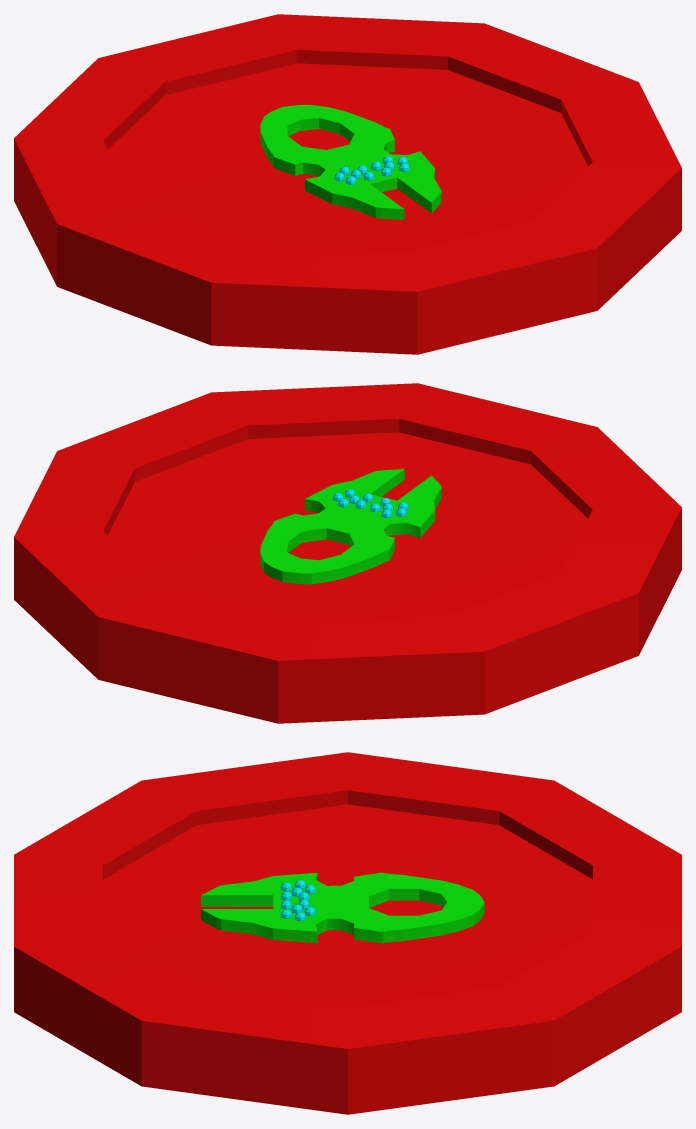
The model's file is Coin.fbx.
3 renders of one model, top to bottom at view 1: azimuth 30°, elevation 25°; view 2: azimuth 150°, elevation 25°; view 3: azimuth 270°, elevation 25°, orthographic. The views are drawn at different scales.
Visible parts, largest first — view 1: pCylinder1, pCube3; view 2: pCylinder1, pCube3; view 3: pCylinder1, pCube3.
Part boxes in pixels (x1=…): pCylinder1: x1=14, y1=14, x2=681, y2=354; pCube3: x1=260, y1=104, x2=441, y2=219; pCylinder1: x1=14, y1=383, x2=681, y2=723; pCube3: x1=260, y1=469, x2=441, y2=584; pCylinder1: x1=14, y1=752, x2=681, y2=1114; pCube3: x1=201, y1=872, x2=484, y2=943.
Bounding box in the file's own units: 35.74 × 4.34 × 33.99.
